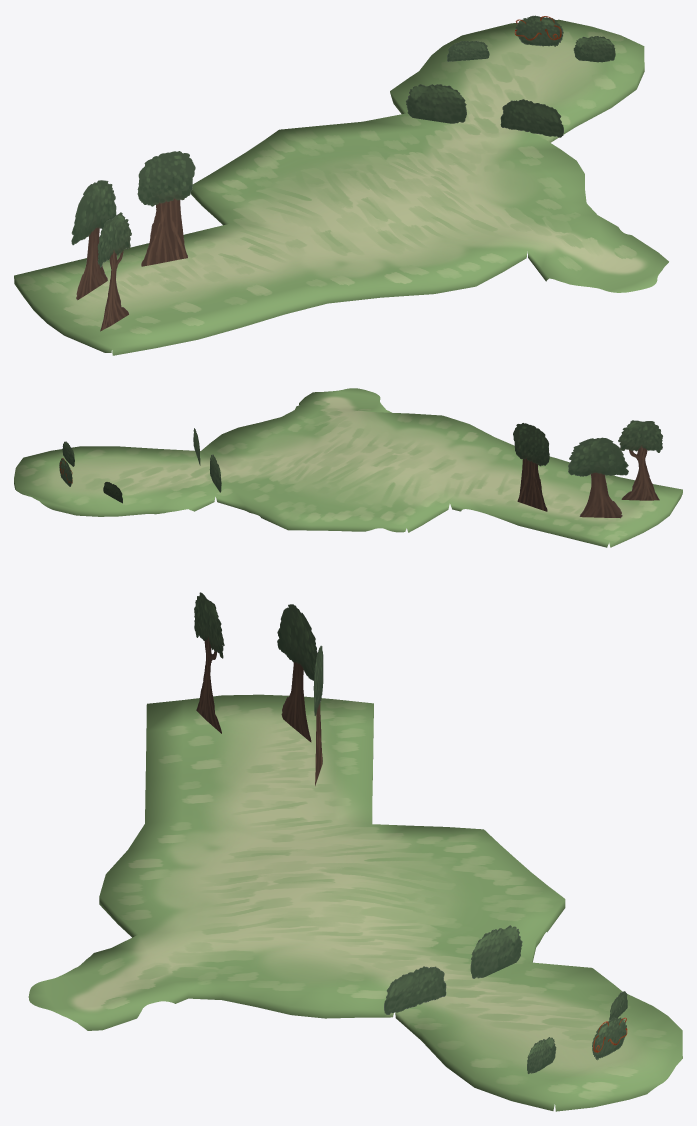
File: forest_v2.glb
3 views of the same model, one above another, from view 1: azimuth 30°, elevation 25°; view 2: azimuth 150°, elevation 25°; view 3: azimuth 270°, elevation 25° (orthographic). The views are drawn at different scales.
Visible parts, largest first — view 1: Forest; view 2: Forest; view 3: Forest.
Boxes of the visible parts, x1,y1,x2,y2 form: Forest: (14,15,668,355); Forest: (14,388,682,547); Forest: (28,592,682,1111).
Bounding box in the file's own units: 64.81 × 11.94 × 44.96.
2 materials, 2 textured.
